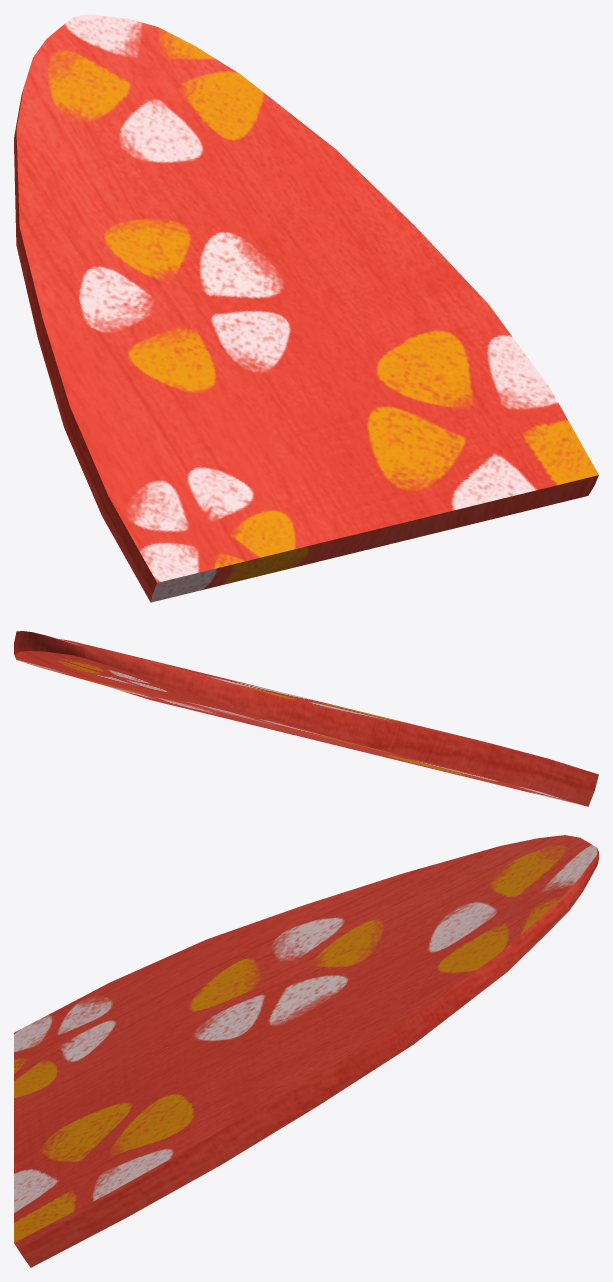
Rendered from tavola da surf 2.FBX.
3 renders of one model, top to bottom at view 1: azimuth 30°, elevation 25°; view 2: azimuth 150°, elevation 25°; view 3: azimuth 270°, elevation 25°, orthographic. The views are drawn at different scales.
Visible parts, largest first — view 1: surf; view 2: surf; view 3: surf.
Part boxes in pixels (x1=…): surf: x1=14, y1=14, x2=598, y2=602; surf: x1=14, y1=631, x2=598, y2=806; surf: x1=14, y1=835, x2=598, y2=1267.
Bounding box in the file's own units: 300 × 208 × 353.
Materials: 1 (1 with a texture image).
